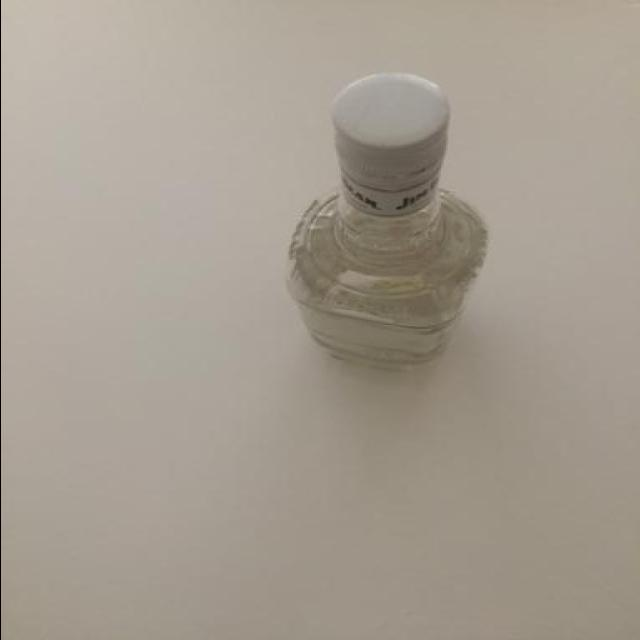Glass Bottle: (280, 69, 485, 375)
